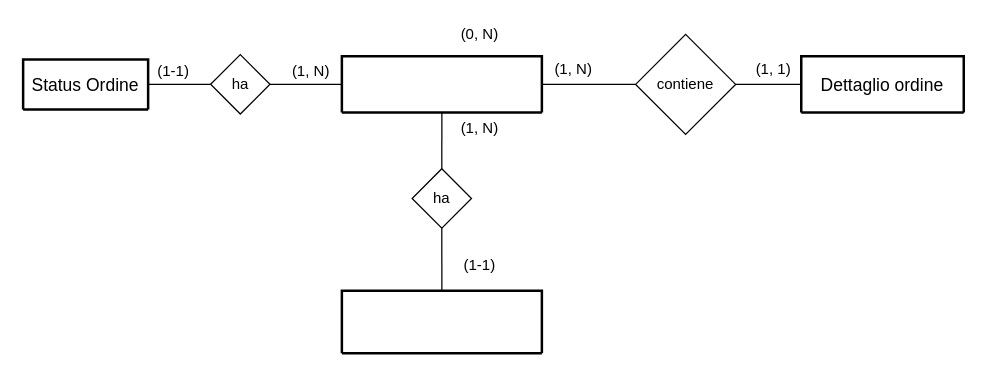
Some shapes in this 986 by 375 pixel diagram are drawn without their labels. Here are the shapes that lost their labels. From the top down, the centre of each, then its label:
At point 441,83: "Ordine".
At point 441,321: "Metodo Spedizione".
